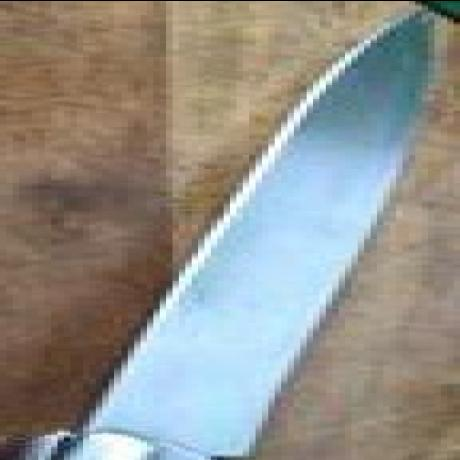weapon: (38, 10, 428, 460)
